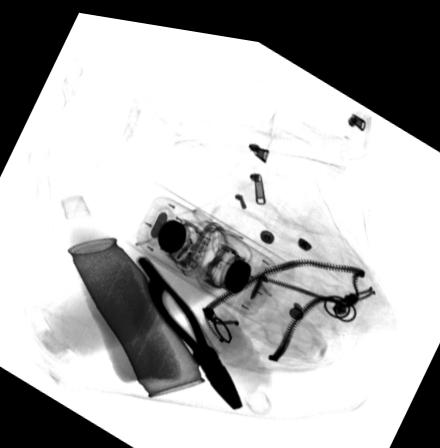Pliers: (134, 250, 245, 403)
